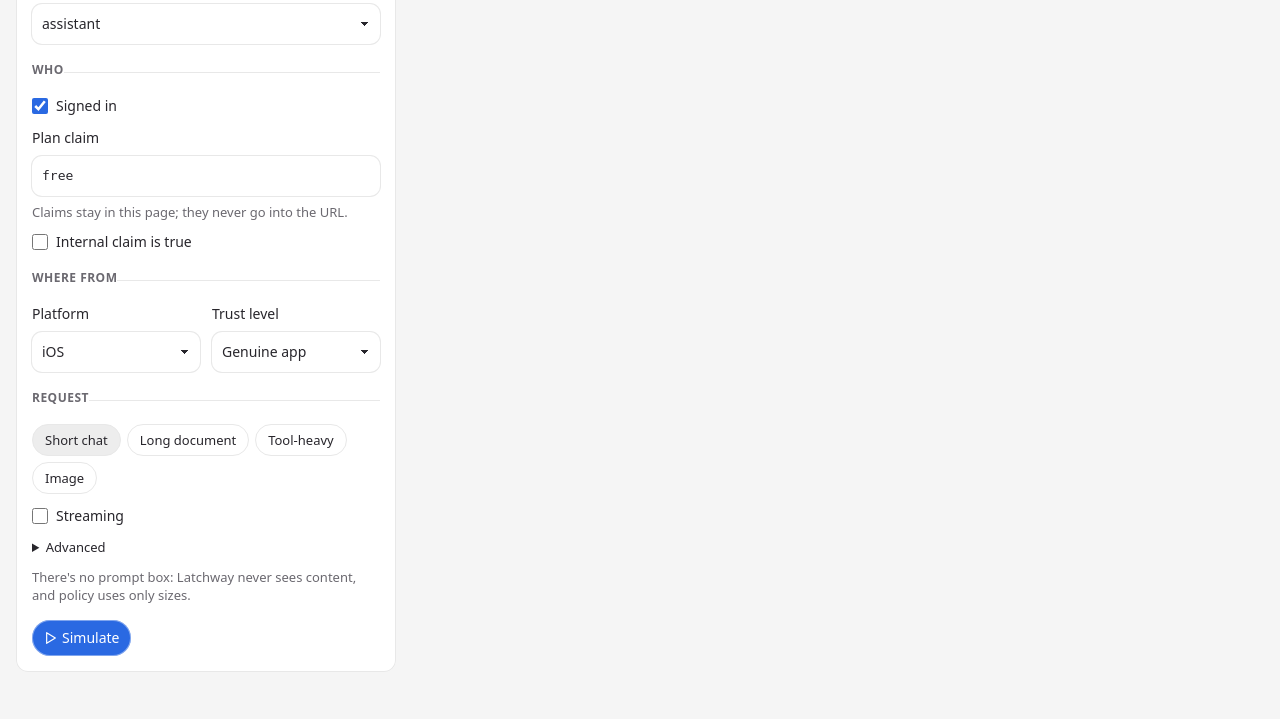
Scenario: Simulator › names the stage that denied the request and links to its fix
This screenshot has width=1280, height=719.
(page scrolled)
Click the button "Simulate" at (82, 638), box 32,620 -> 132,656
(page scrolled)
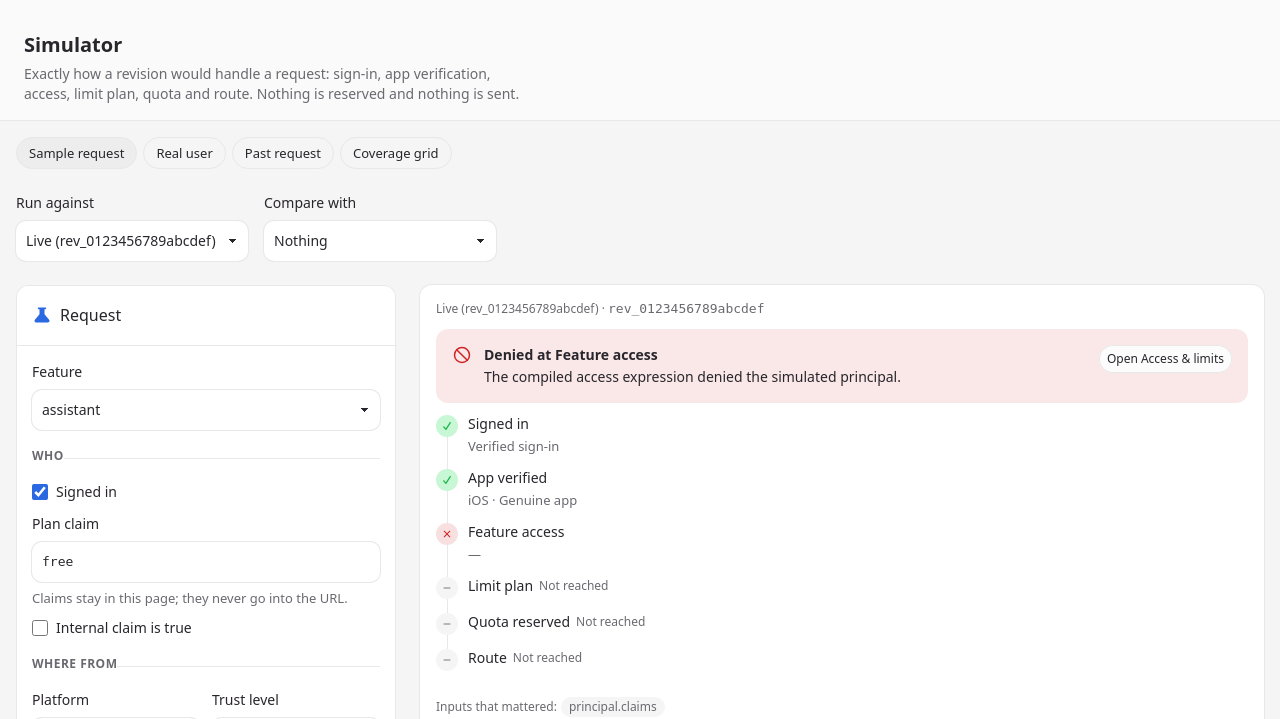
Expected: the text "Denied at Feature access" is shown, 484,345 -> 658,364
Expected: the text "Not reached" is shown 3 times, 539,578 -> 608,594; 576,614 -> 645,630; 513,650 -> 582,666
